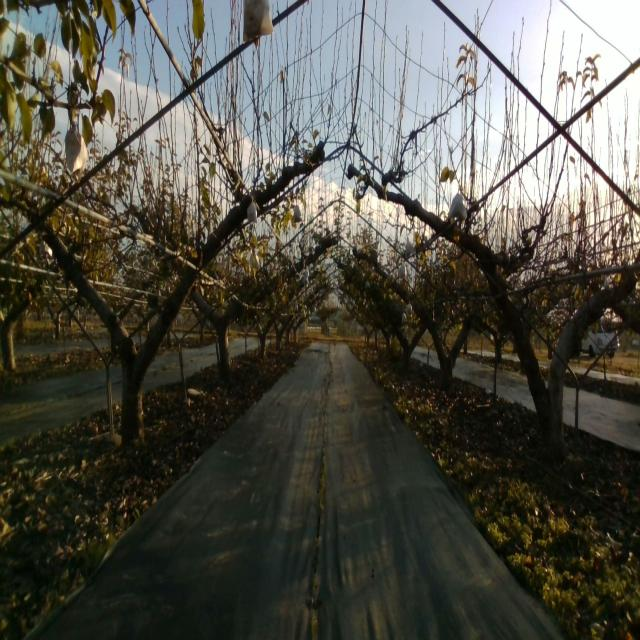pearbags: (65, 121, 88, 185), (241, 0, 275, 43), (447, 192, 468, 222), (247, 196, 258, 225), (404, 237, 416, 260)
